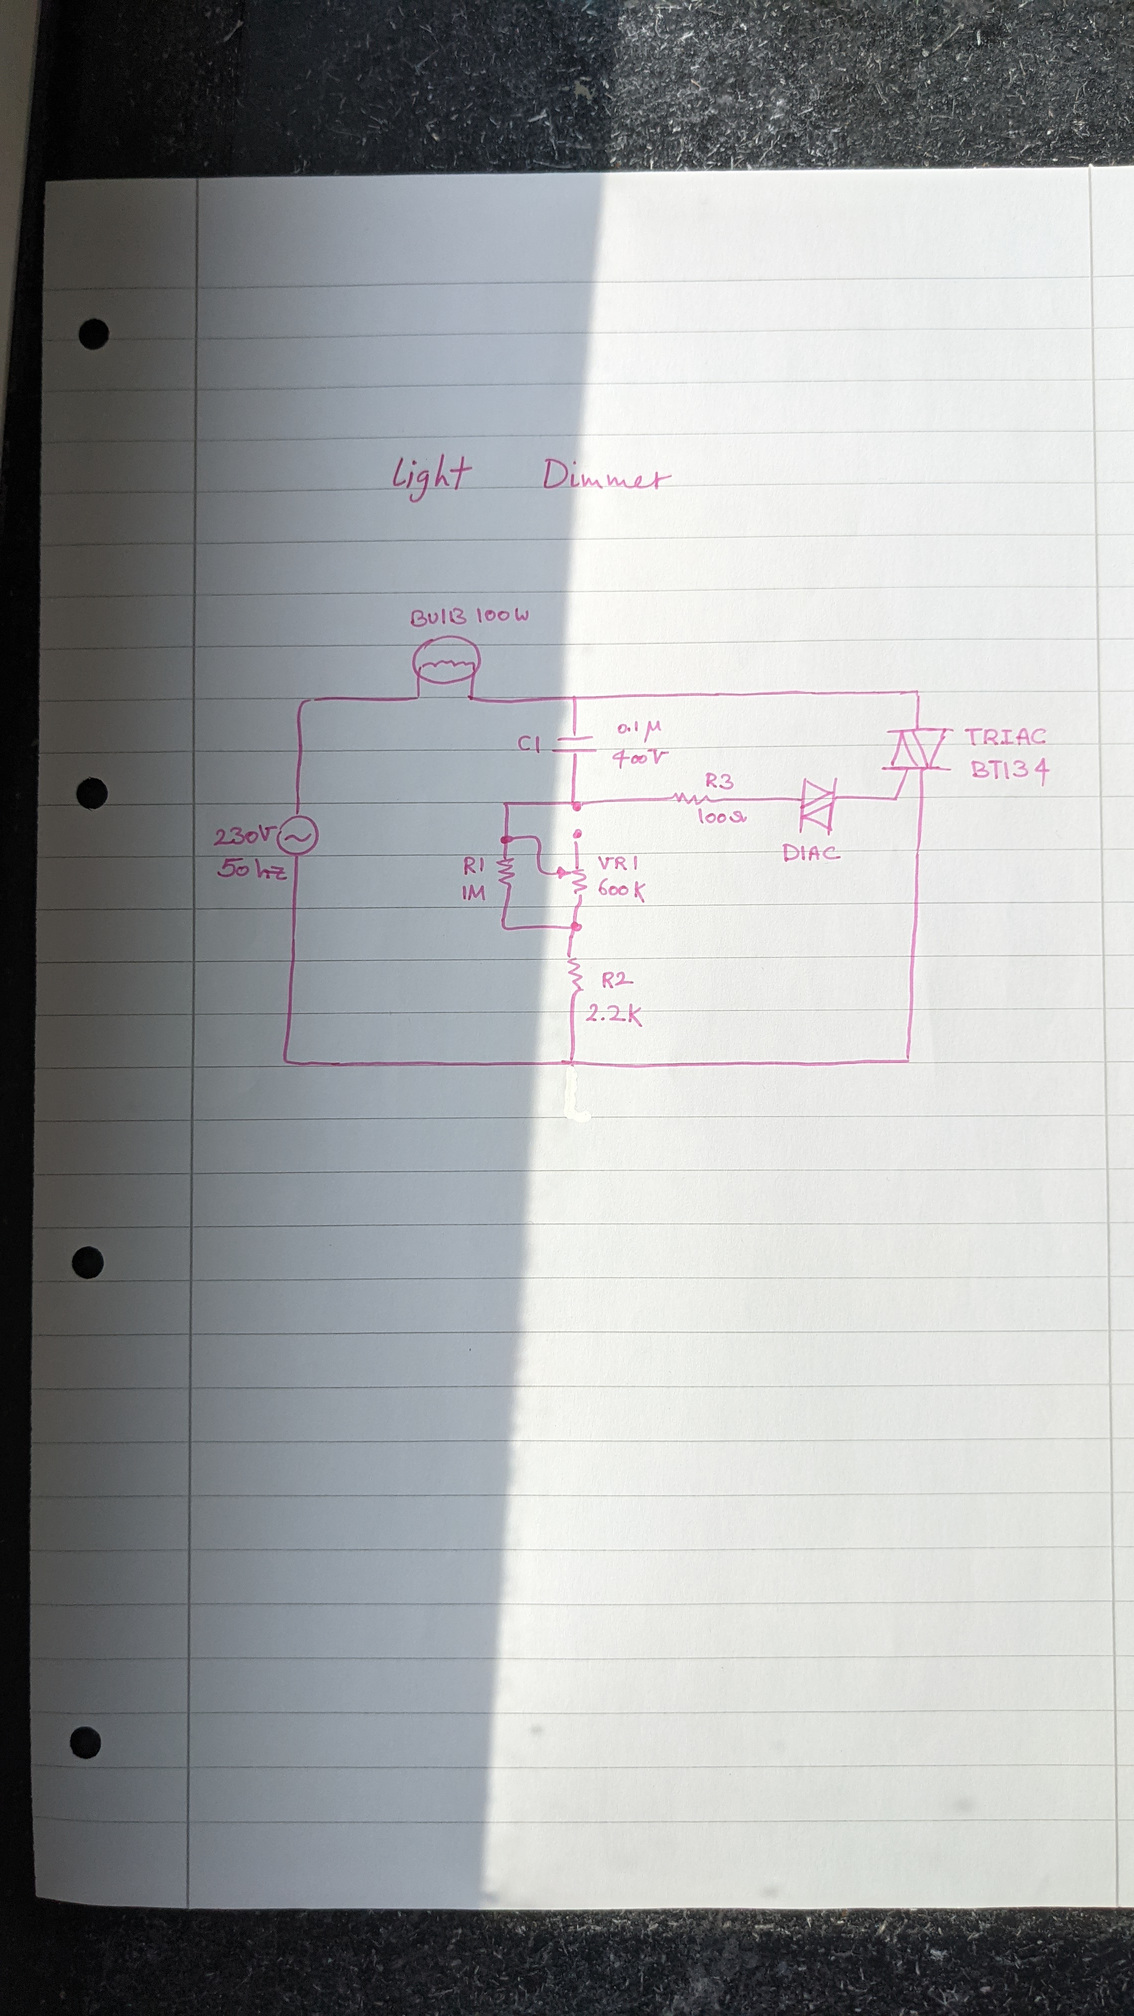capacitor.unpolarized: (548, 730, 601, 759)
diac: (793, 773, 840, 839)
junction: (294, 695, 318, 714), (566, 798, 587, 814), (565, 918, 584, 935), (565, 1052, 582, 1070), (498, 831, 516, 847), (900, 1051, 917, 1069), (278, 1051, 294, 1070), (533, 860, 548, 879), (569, 827, 584, 846), (497, 918, 512, 935), (566, 691, 583, 706), (910, 685, 925, 701), (529, 831, 546, 845), (498, 798, 512, 811), (411, 691, 426, 703), (889, 791, 901, 804), (464, 692, 479, 703)
lamp: (410, 631, 485, 685)
resistor: (564, 953, 586, 1000), (493, 853, 519, 890), (667, 791, 719, 809)
resistor.adjustable: (554, 863, 591, 906)
text: (388, 449, 677, 505), (407, 604, 533, 631), (968, 755, 1052, 791), (215, 853, 291, 885), (962, 726, 1050, 750), (583, 1000, 647, 1030), (210, 822, 280, 847), (595, 875, 648, 907), (608, 746, 672, 771), (781, 840, 845, 864), (616, 716, 665, 745), (695, 804, 750, 828), (595, 853, 642, 874), (598, 966, 637, 991), (702, 767, 737, 792), (515, 732, 546, 757), (458, 853, 487, 878), (460, 881, 489, 904)
triac: (876, 726, 958, 786)
voltage.dc_ac: (276, 810, 323, 858)
